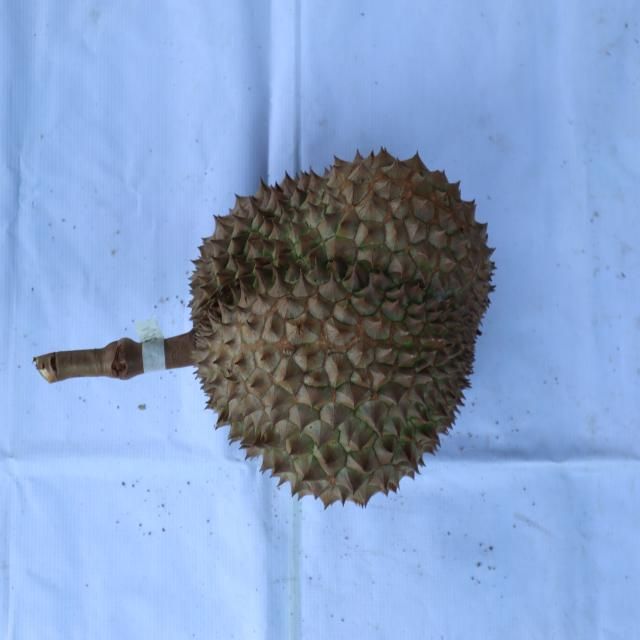mature: (185, 146, 499, 511)
